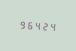four: (34, 19, 41, 31), (50, 20, 57, 32)
nine: (18, 18, 25, 30)
six: (26, 19, 33, 30)
two: (42, 20, 49, 31)
